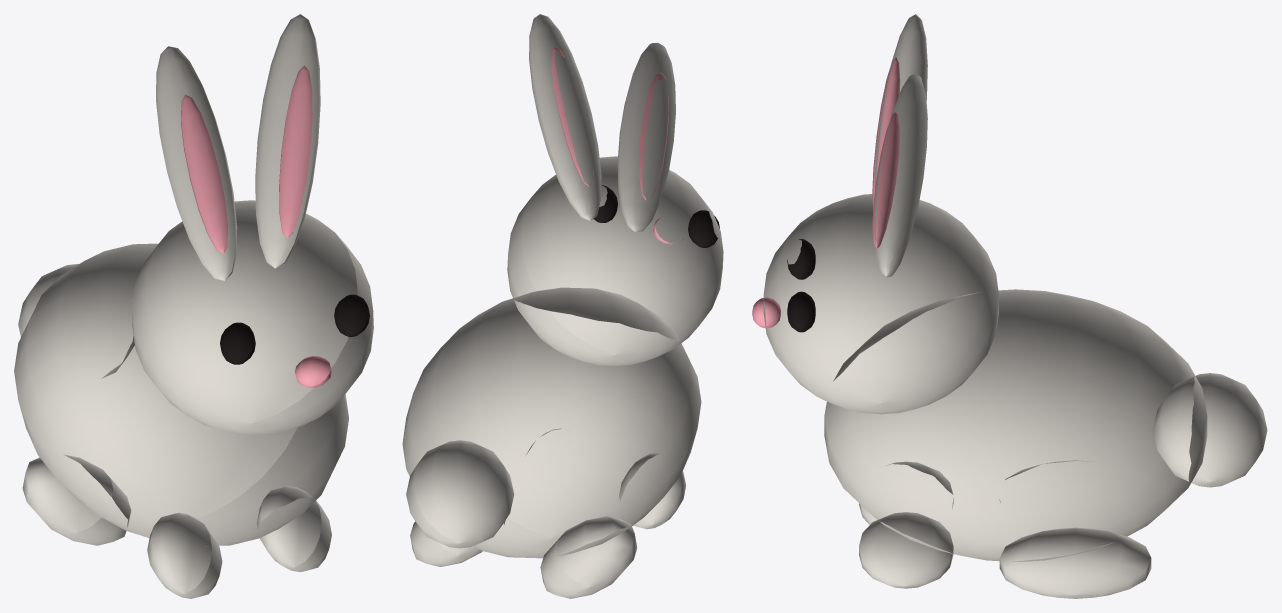
File: rabbit.glb
3 views of the same model, side by side, from view 1: azimuth 30°, elevation 25°; view 2: azimuth 150°, elevation 25°; view 3: azimuth 270°, elevation 25° (orthographic). The views are drawn at different scales.
Parts seen in each view (by area): view 1: Rabbit; view 2: Rabbit; view 3: Rabbit.
Part boxes in pixels (bbox=[...]): Rabbit: bbox=[14, 14, 373, 598]; Rabbit: bbox=[402, 14, 723, 598]; Rabbit: bbox=[752, 14, 1267, 598].
Bounding box in the file's own units: 0.58 × 1.14 × 1.03.
